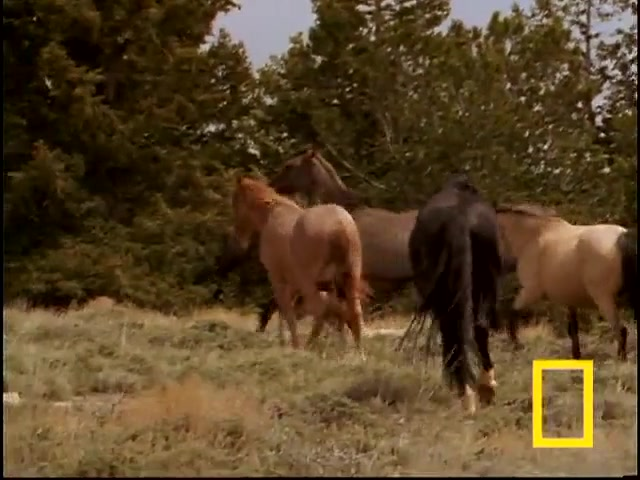horse: (232, 168, 365, 354)
